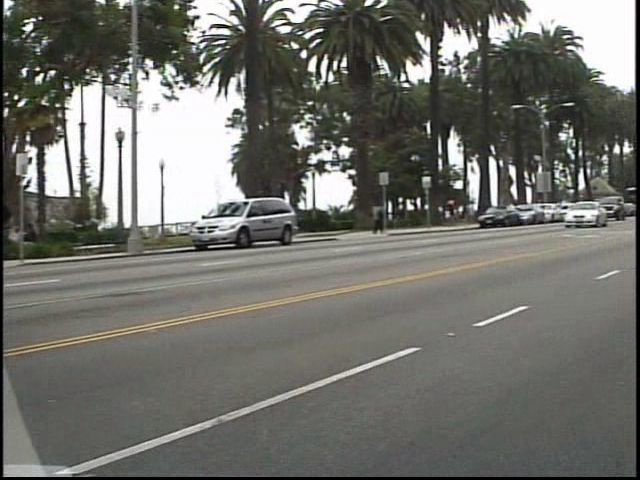person: (378, 200, 400, 239), (452, 193, 471, 228)
